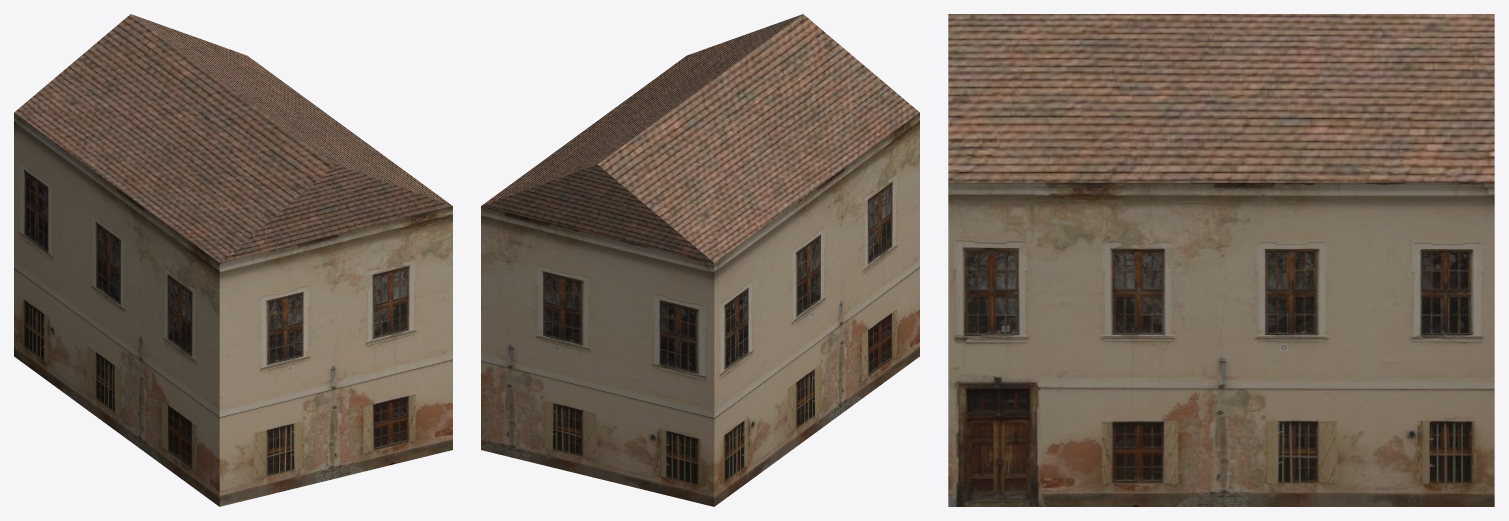
Rendered from Building_13.fbx.
3 renders of one model, left to right at view 1: azimuth 30°, elevation 25°; view 2: azimuth 150°, elevation 25°; view 3: azimuth 270°, elevation 25°, orthographic. The views are drawn at different scales.
Parts seen in each view (by area): view 1: Cube.002; view 2: Cube.002; view 3: Cube.002.
Part boxes in pixels (box(x1,y1,x2,y2)): Cube.002: box(14, 14, 452, 506); Cube.002: box(481, 14, 919, 506); Cube.002: box(948, 14, 1494, 506).
Size of the model in its own units: 1509 by 988 by 1272.
1 material, 1 textured.
